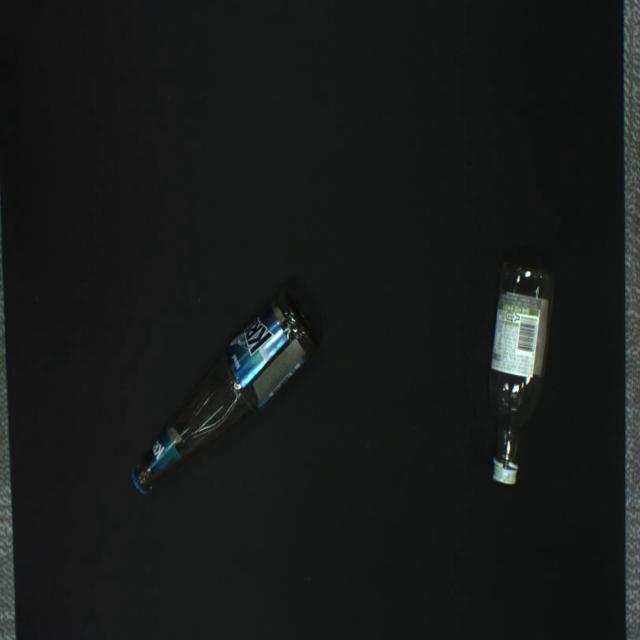beer-bottle: (132, 292, 316, 494)
soju-bottle: (488, 263, 554, 484)
